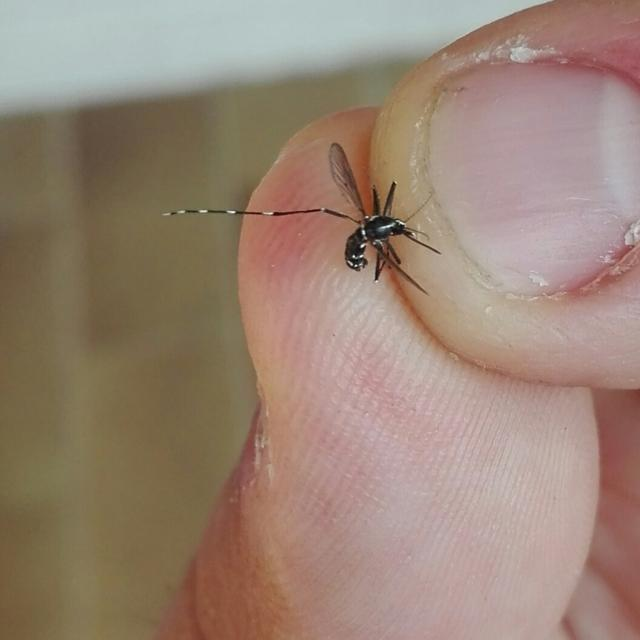albopictus: (170, 138, 444, 308)
